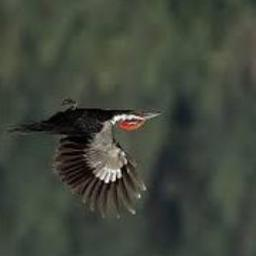Woodpecker: (7, 99, 162, 219)
